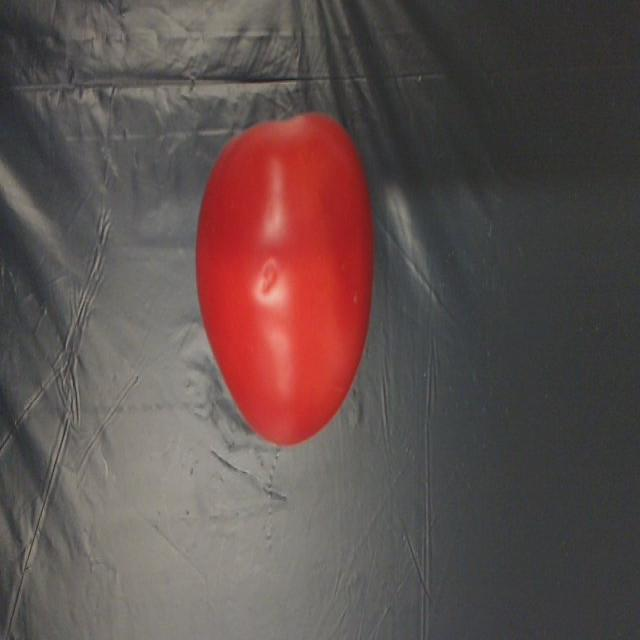kirmizi: (163, 65, 394, 482)
